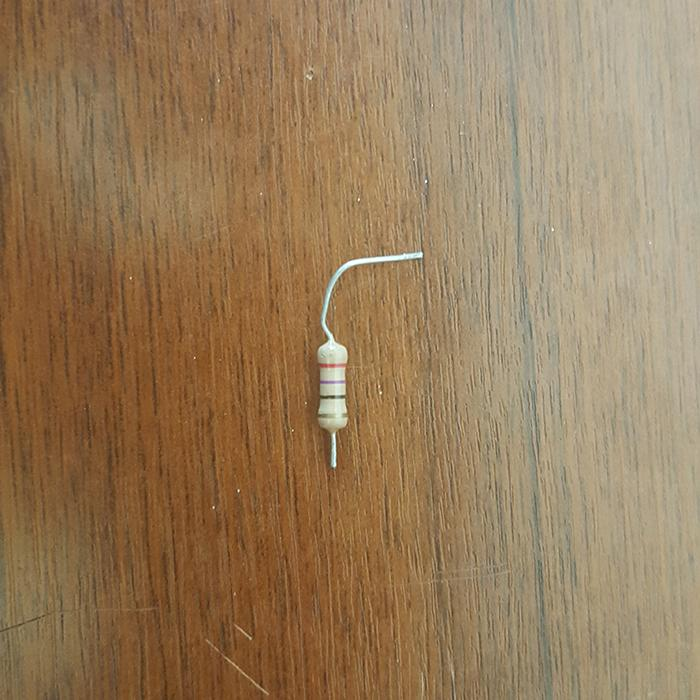resistor: (316, 337, 348, 438)
